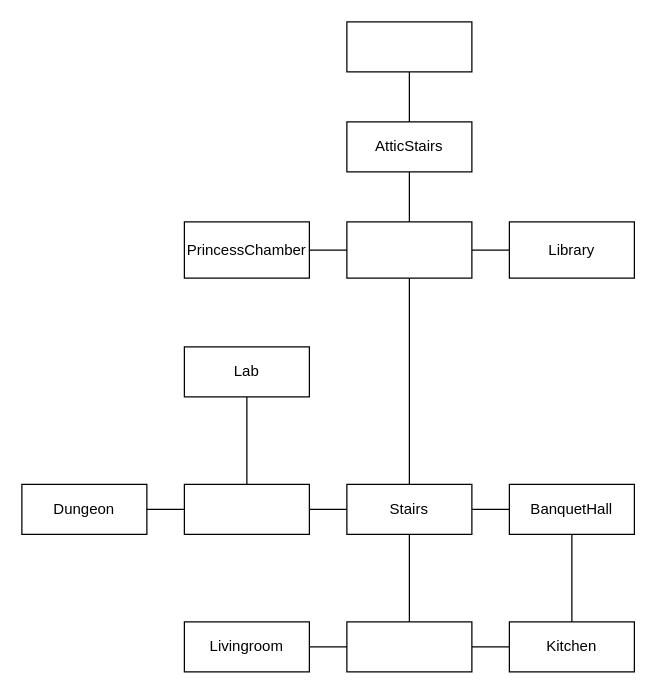
Some shapes in this 656 by 694 pixel diagram are drawn without their labels. Each missing label, with the centre of its shape:
Attic: [409,46]
Basement: [246,508]
Entrance: [409,646]
Upstairs: [409,249]
